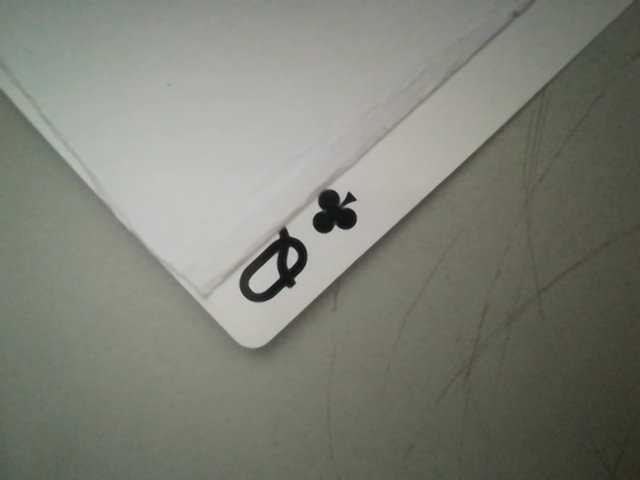mh q: (226, 180, 374, 332)
